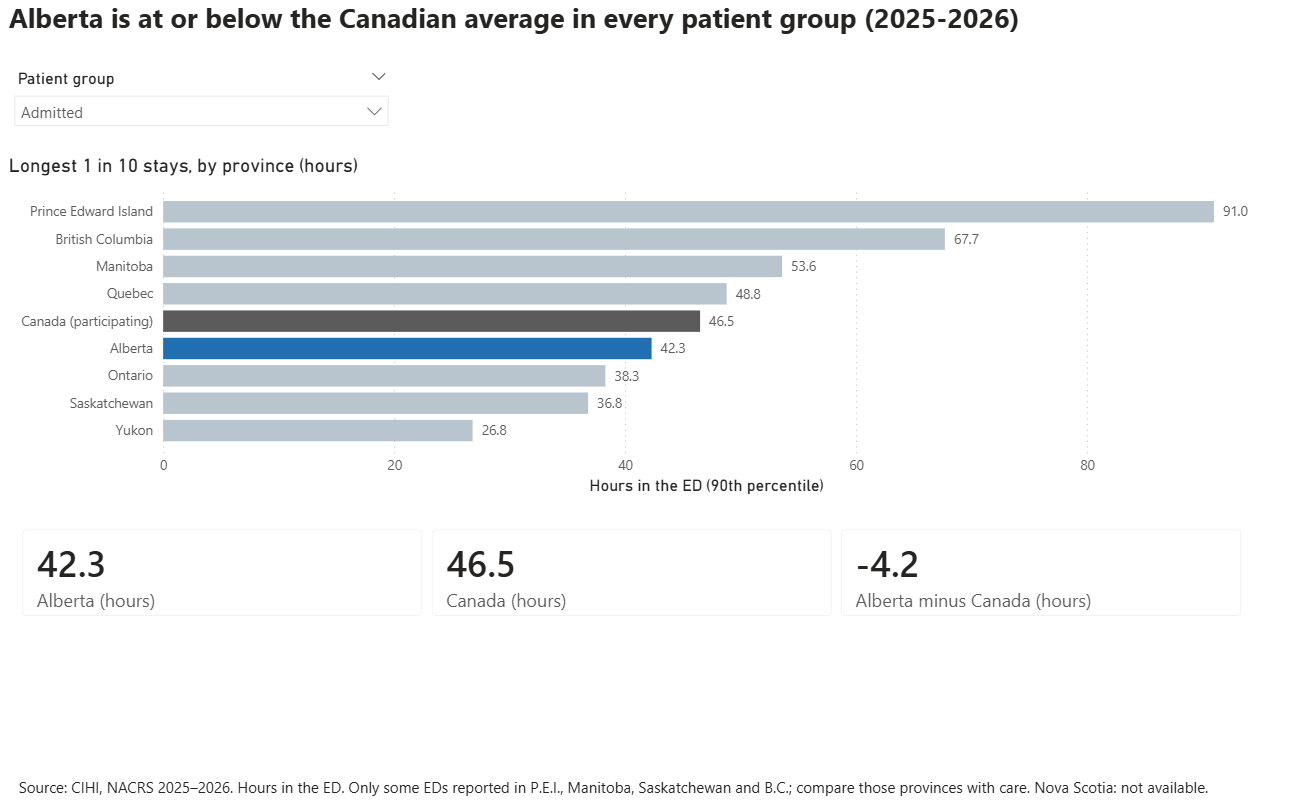

What the dashboard file says about the page in this screenshot:
{"tool":"powerbi","page":{"name":"Alberta vs provinces","canvas":[1280,720],"ordinal":4},"visuals":[{"type":"textbox","box":[9.5,0,1110.2,51.7],"z":0},{"type":"slicer","fields":{"Values":["cihi_ed_los.patient_group"]},"box":[9.5,63.3,352.2,68.5],"z":1000},{"type":"clusteredBarChart","title":"Longest 1 in 10 stays, by province (hours)","fields":{"Category":["cihi_ed_los.province"],"Y":["Sum(cihi_ed_los.p90_los_hours)"]},"box":[9.5,142.3,1117.6,306.8],"z":2000},{"type":"cardVisual","fields":{"Data":["_Measures.CIHI Alberta P90 (h)","_Measures.CIHI Canada P90 (h)","_Measures.CIHI Alberta vs Canada P90 (h)"]},"box":[9.5,458.6,1117.6,111.8],"z":3000},{"type":"textbox","box":[19,690.6,1108.1,29.5],"z":4000}]}

Visuals, with their boxes on the page's 1280x720 design canvas (x1, y1, x2, y2). These are canvas units, not pixel positions in the 1302x801 screenshot, which may show the page scaled, cropped or inside an application window:
textbox: crop(10, 0, 1120, 52)
slicer - cihi_ed_los.patient_group: crop(10, 63, 362, 132)
"Longest 1 in 10 stays, by province (hours)" clusteredBarChart: crop(10, 142, 1127, 449)
cardVisual - _Measures.CIHI Alberta P90 (h) x _Measures.CIHI Canada P90 (h): crop(10, 459, 1127, 570)
textbox: crop(19, 691, 1127, 720)
